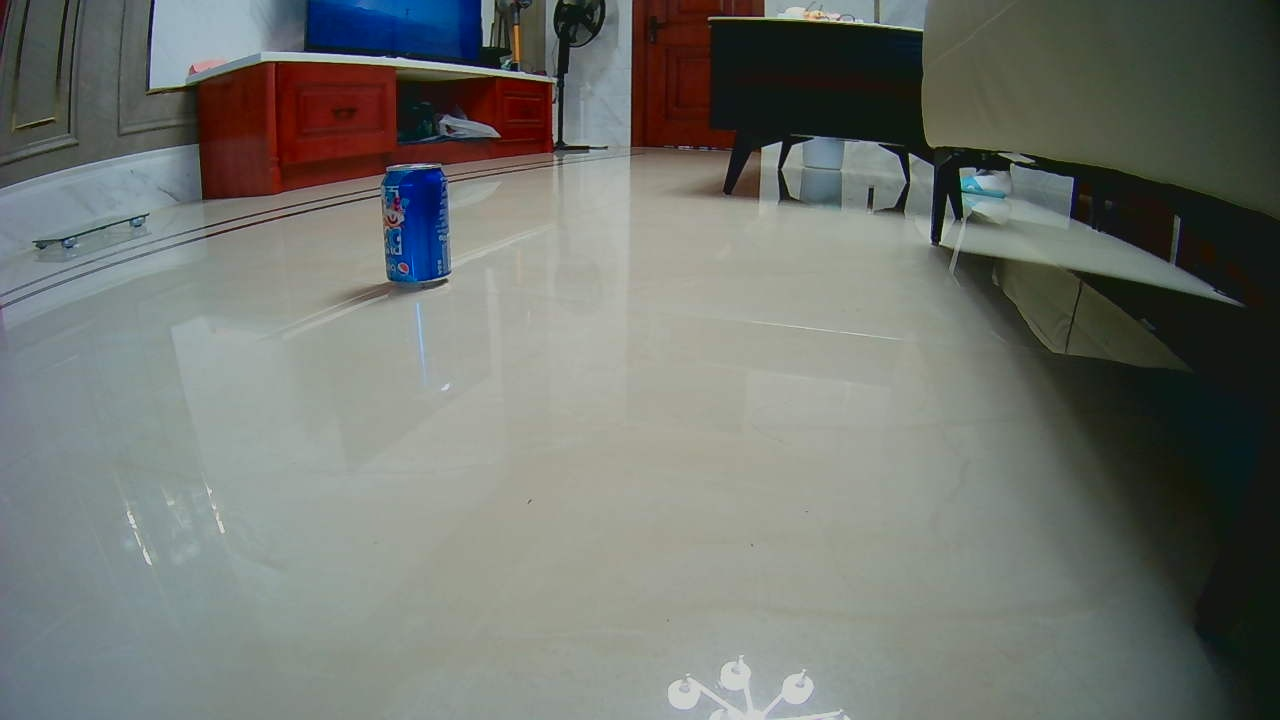pessi: (378, 161, 449, 285)
